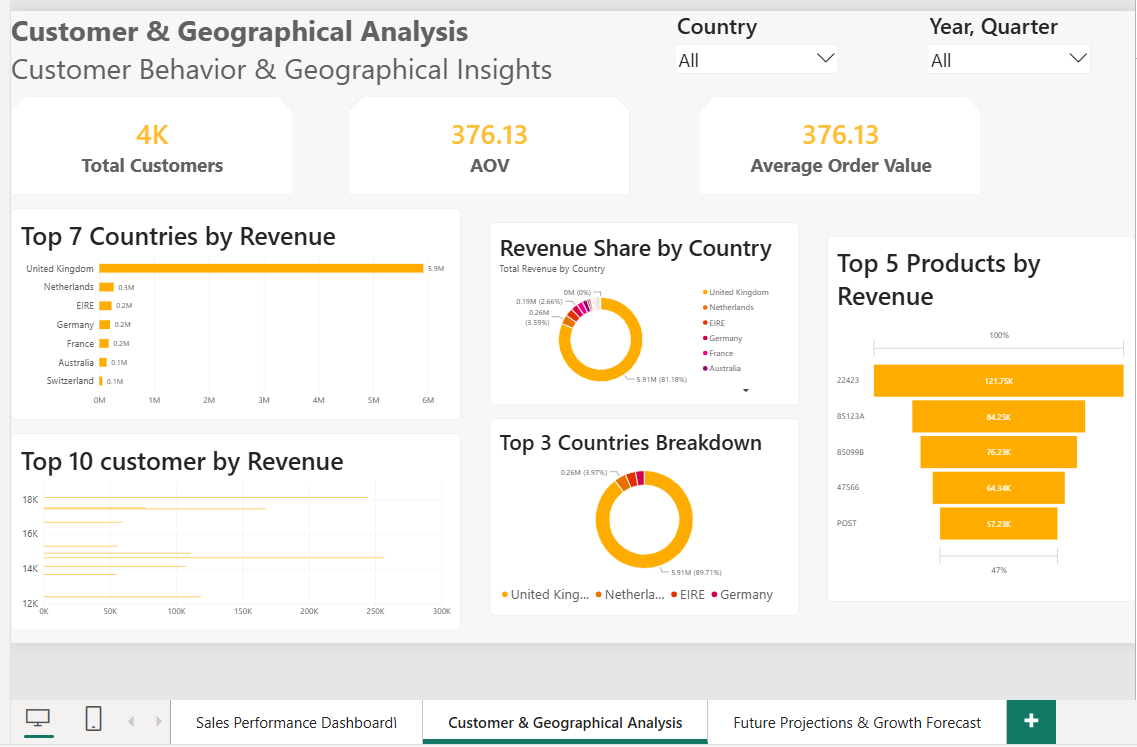

This screenshot's page, from the dashboard's own definition file:
{"tool":"powerbi","page":{"name":"Customer & Geographical Analysis","canvas":[1920,1080],"ordinal":1},"visuals":[{"type":"textbox","box":[0,0,1008,288],"z":0},{"type":"cardVisual","fields":{"Data":["clean_data.Total Customers"]},"box":[0,144,480,168],"z":1},{"type":"cardVisual","fields":{"Data":["clean_data.AOV"]},"box":[576,144,480,168],"z":2},{"type":"cardVisual","fields":{"Data":["clean_data.Average Order Value"]},"box":[1176,144,480,168],"z":3},{"type":"clusteredBarChart","title":"Top 7 Countries by Revenue","fields":{"Category":["clean_data.Country"],"Y":["clean_data.Total Revenue"]},"box":[0,336,768,360],"z":4},{"type":"clusteredBarChart","title":"Top 10  customer by Revenue","fields":{"Category":["Dim_Customer.CustomerID"],"Y":["clean_data.Total Revenue"]},"box":[0,720,768,336],"z":5},{"type":"funnel","title":"Top 5 Products by Revenue","fields":{"Category":["Dim_Product.StockCode"],"Y":["clean_data.Total Revenue"]},"box":[1392,384,528,624],"z":6},{"type":"donutChart","title":"Revenue Share by Country","fields":{"Category":["clean_data.Country"],"Y":["clean_data.Total Revenue"]},"box":[816,360,528,312],"z":7},{"type":"slicer","fields":{"Values":["clean_data.Country"]},"box":[1128,0,288,144],"z":8},{"type":"slicer","fields":{"Values":["Dim_clender.Year","Dim_clender.Quarter"]},"box":[1560,0,288,144],"z":9},{"type":"donutChart","title":"Top 3 Countries Breakdown","fields":{"Category":["clean_data.Country"],"Y":["Sum(clean_data.TotalPrice)"]},"box":[816,696,528,336],"z":10}]}

Visuals, with their boxes on the page's 1920x1080 design canvas (x1, y1, x2, y2). These are canvas units, not pixel positions in the 1137x747 screenshot, which may show the page scaled, cropped or inside an application window:
textbox: region(0, 0, 1008, 288)
cardVisual - clean_data.Total Customers: region(0, 144, 480, 312)
cardVisual - clean_data.AOV: region(576, 144, 1056, 312)
cardVisual - clean_data.Average Order Value: region(1176, 144, 1656, 312)
"Top 7 Countries by Revenue" clusteredBarChart: region(0, 336, 768, 696)
"Top 10  customer by Revenue" clusteredBarChart: region(0, 720, 768, 1056)
"Top 5 Products by Revenue" funnel: region(1392, 384, 1920, 1008)
"Revenue Share by Country" donutChart: region(816, 360, 1344, 672)
slicer - clean_data.Country: region(1128, 0, 1416, 144)
slicer - Dim_clender.Year x Dim_clender.Quarter: region(1560, 0, 1848, 144)
"Top 3 Countries Breakdown" donutChart: region(816, 696, 1344, 1032)
